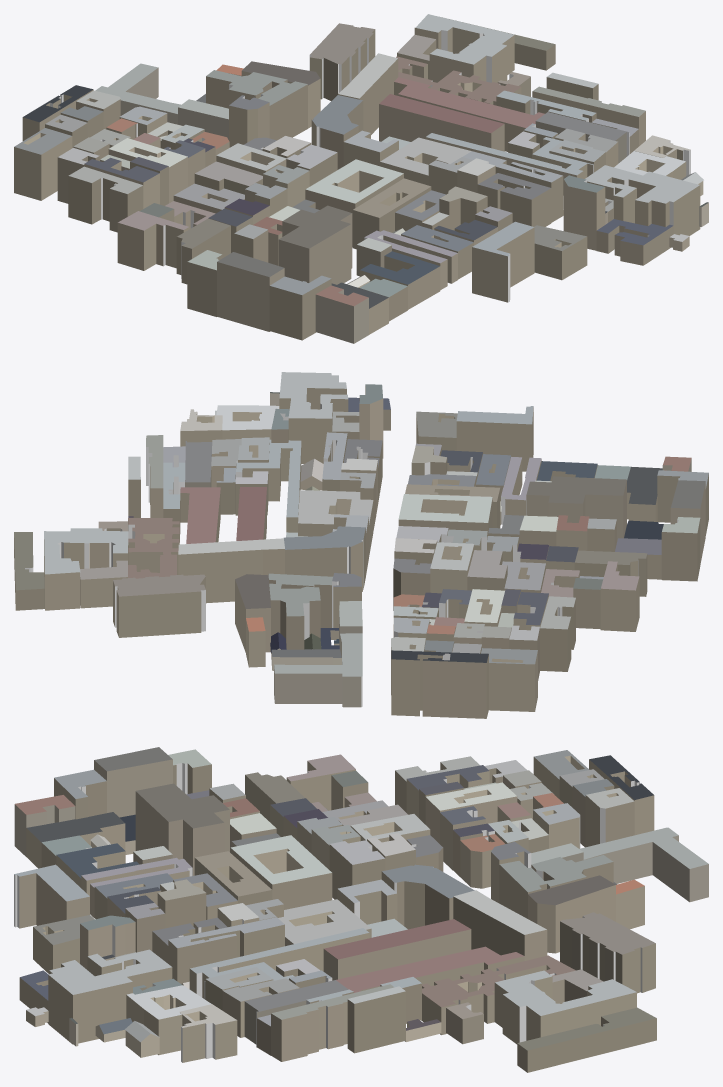
The picture shows the model from 3 angles, top to bottom: view 1: azimuth 30°, elevation 25°; view 2: azimuth 150°, elevation 25°; view 3: azimuth 270°, elevation 25°; orthographic projection. The views are drawn at different scales.
Parts seen in each view (by area): view 1: tuile; view 2: tuile; view 3: tuile.
Part boxes in pixels (x1,y1,x2,y2): tuile: [14, 14, 708, 343]; tuile: [14, 372, 708, 718]; tuile: [14, 747, 708, 1072].
Size of the model in its own units: 274 by 34.97 by 280.
